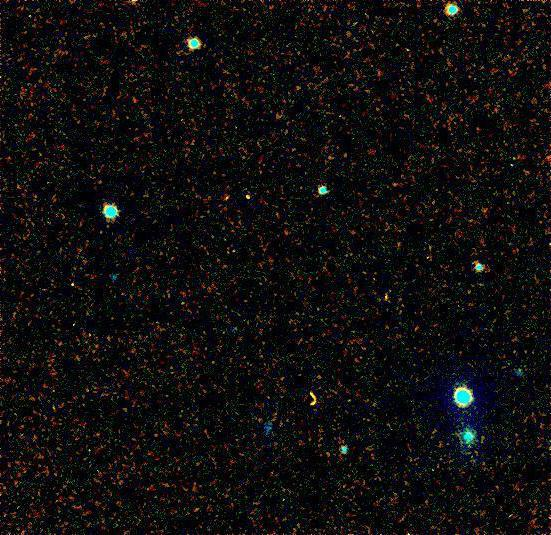star: (305, 377, 335, 407)
